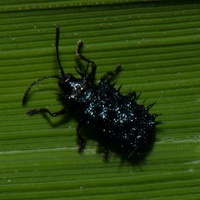insect: (22, 25, 158, 160)
